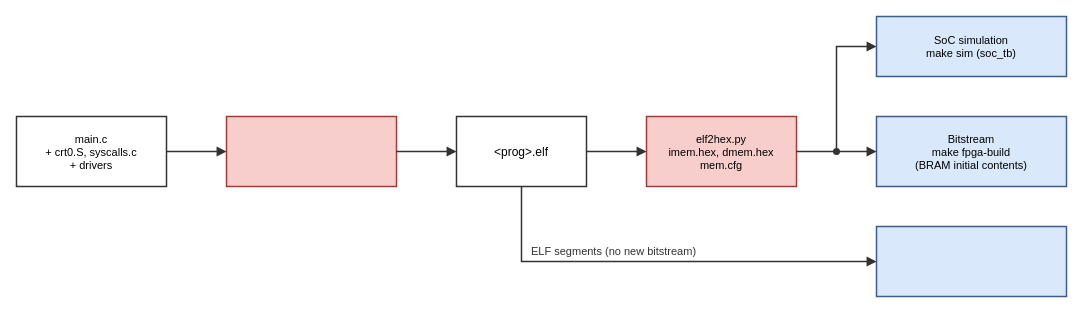
The diagram is 1083 pixels wide and 313 high, and some of its shapes have lost their labels. The centre of each missing label's shape, as x and y in pixels:
"riscv32-unknown-elf-gcc -march from ISA link.ld, common.mk" goes at [311,151].
"Running board hornet_load.py over the UART bootloader" goes at [971,261].
